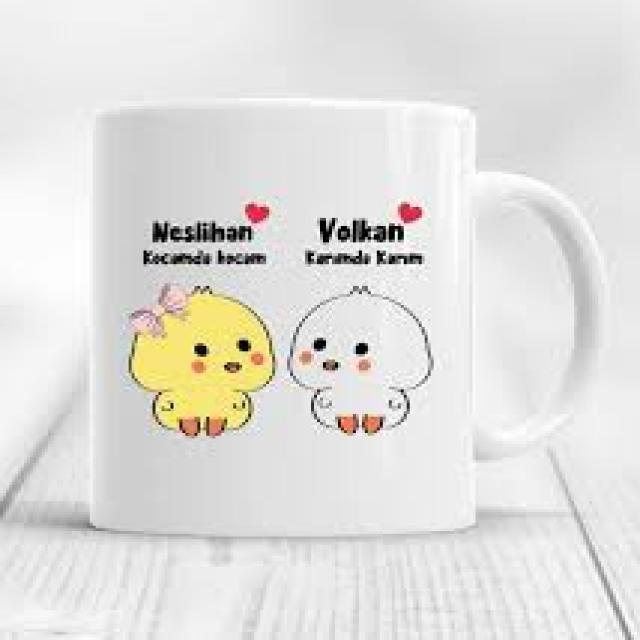taza: (91, 102, 610, 534)
